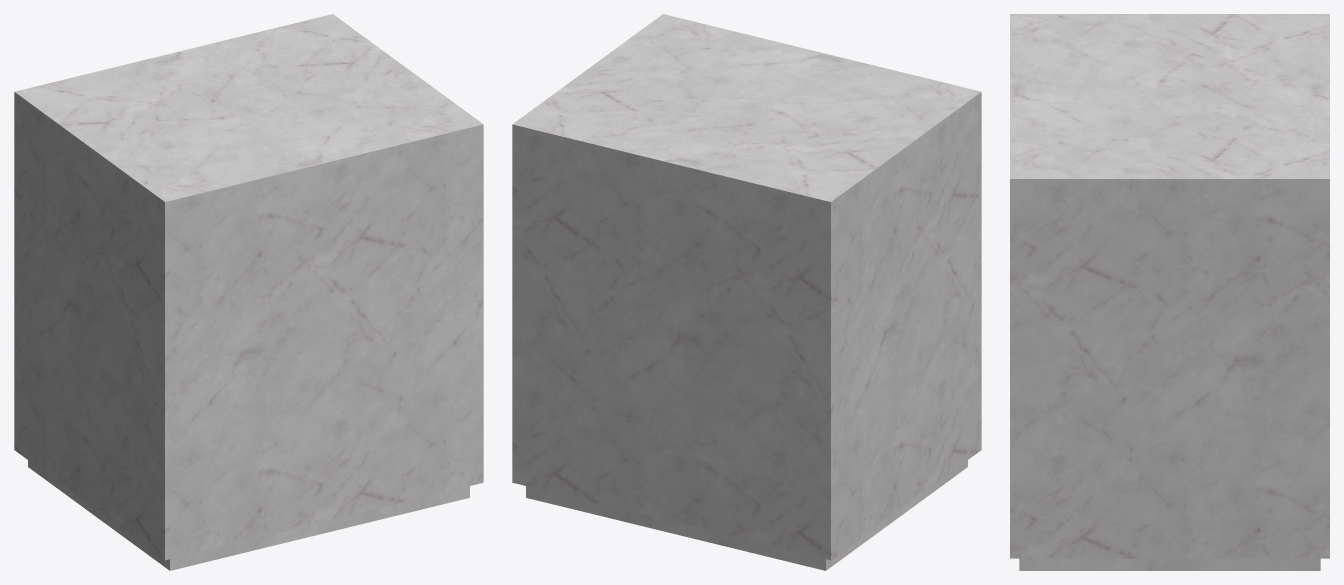
Rendered from shelf_base_cute.glb.
The picture shows the model from 3 angles, left to right: view 1: azimuth 30°, elevation 25°; view 2: azimuth 150°, elevation 25°; view 3: azimuth 270°, elevation 25°; orthographic projection. The views are drawn at different scales.
Parts seen in each view (by area): view 1: pCube17; view 2: pCube17; view 3: pCube17.
Boxes of the visible parts, bbox=[...] form: pCube17: bbox=[14, 14, 483, 570]; pCube17: bbox=[512, 14, 981, 570]; pCube17: bbox=[1010, 14, 1329, 570].
Bounding box in the file's own units: 0.6555 × 0.7361 × 0.5376.
Materials: 1 (1 with a texture image).
